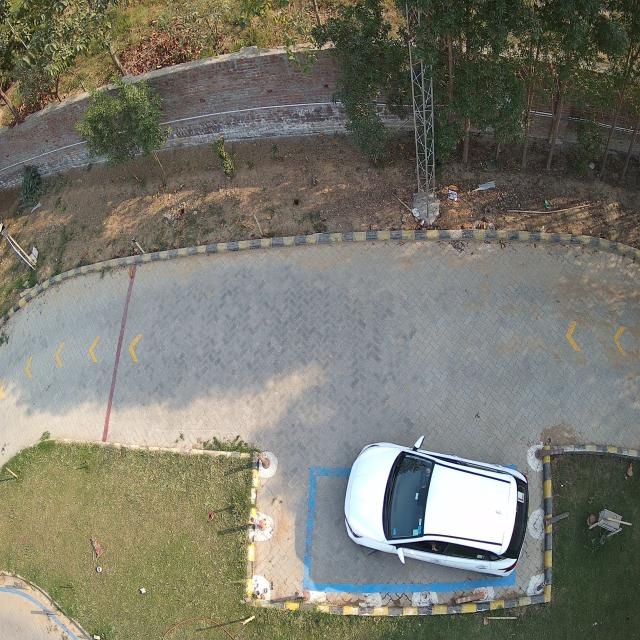car: (344, 438, 529, 577)
